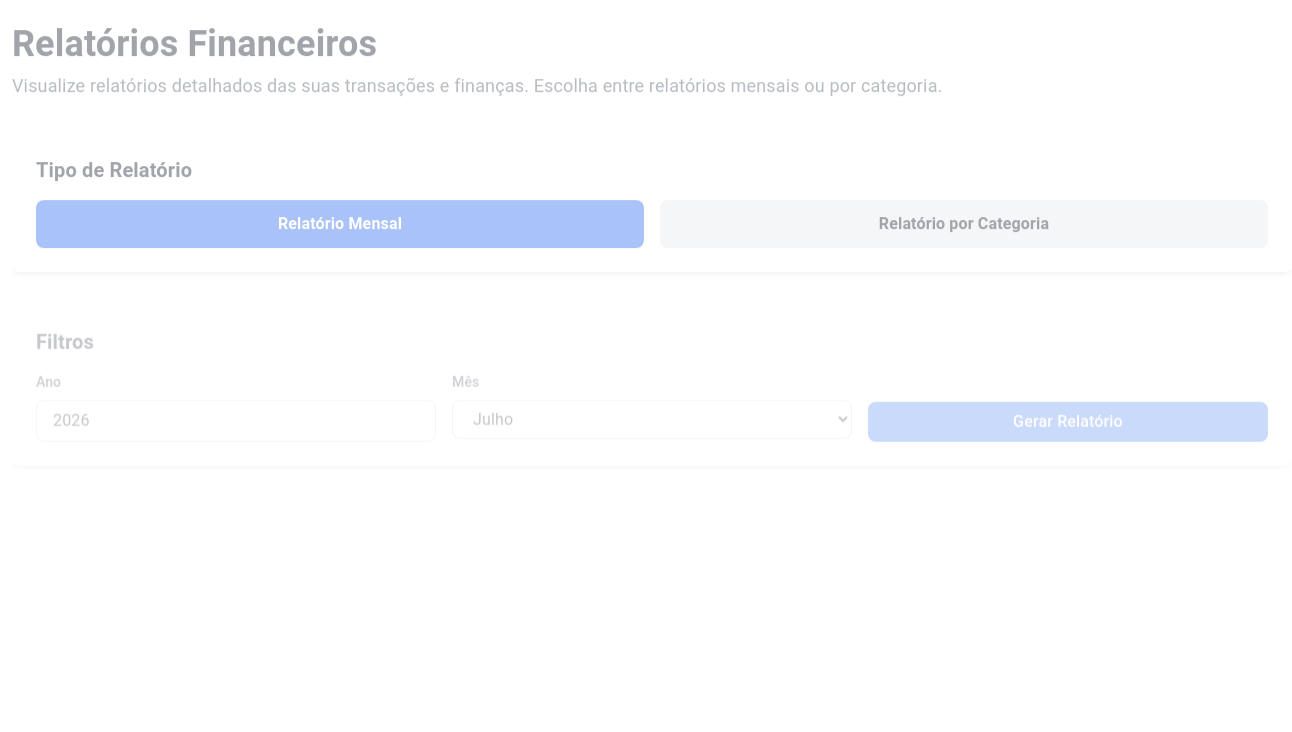
Test case: ReportsPage Component › ReportsPage Component › should format currency correctly
What coordinates should you click on to do the following:
click the button "Gerar Relatório"
I would click on:
 (1068, 422)
Its box is [868,402,1268,442].
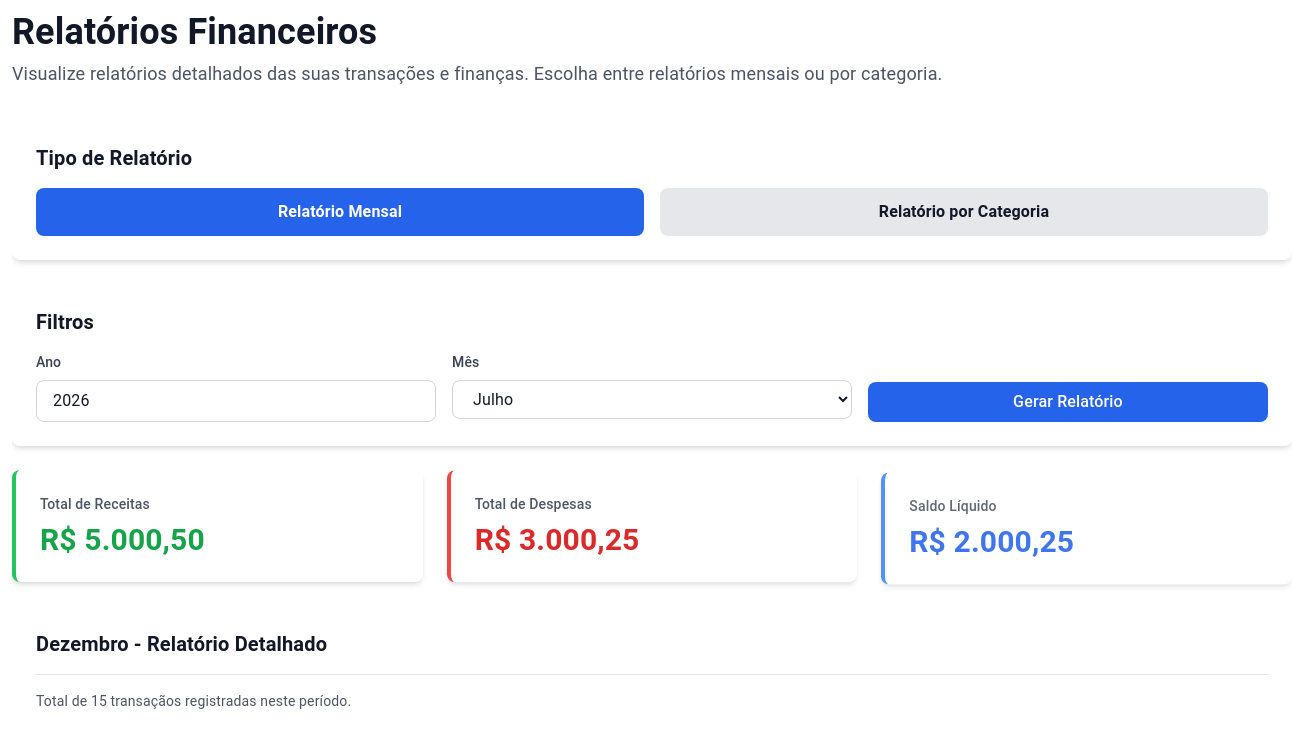
Expected: the text "R$ 5.000,50" is shown, [40,522,205,557]
